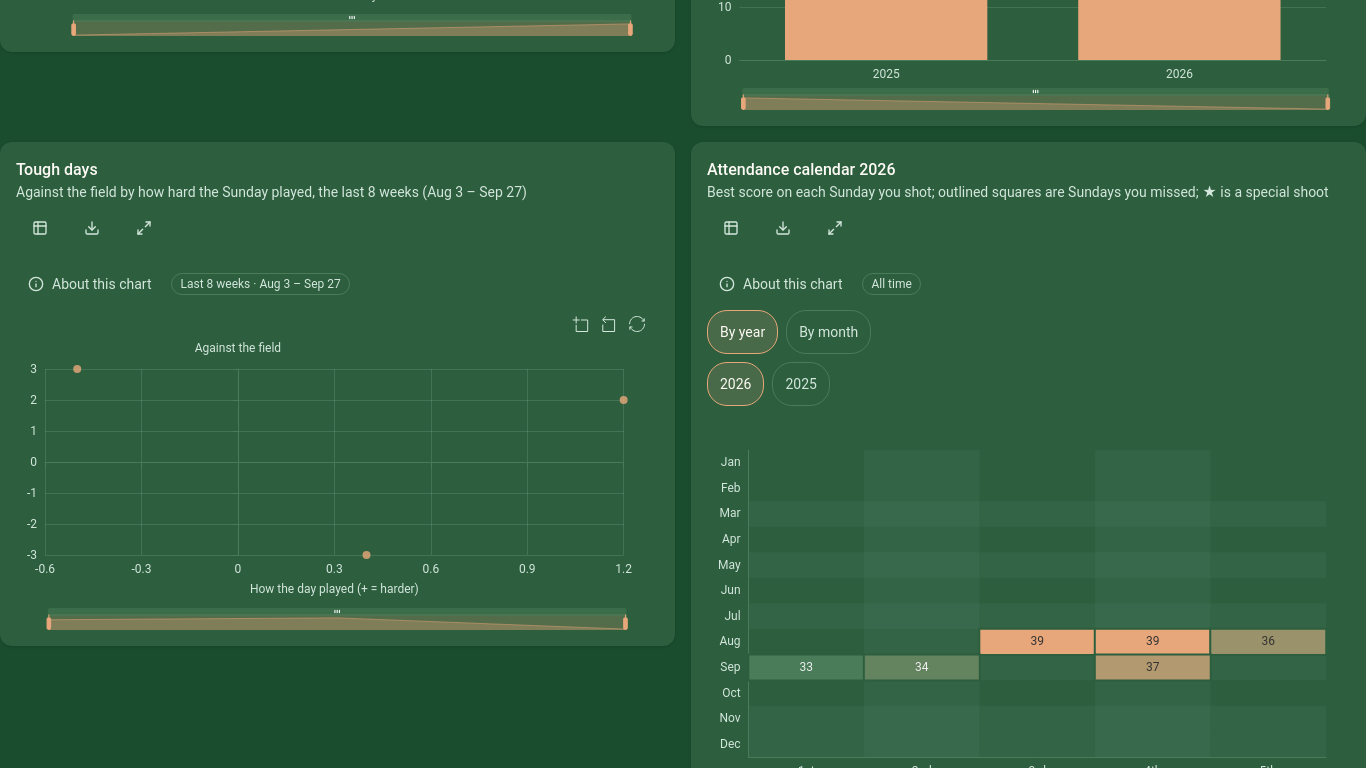
Test: ProfileCharts › the calendar's Table view keeps the chosen year (year and view use different URL keys)
(page scrolled)
Step 1. Click the button "2025" → (801, 384), box [772,362,830,406]
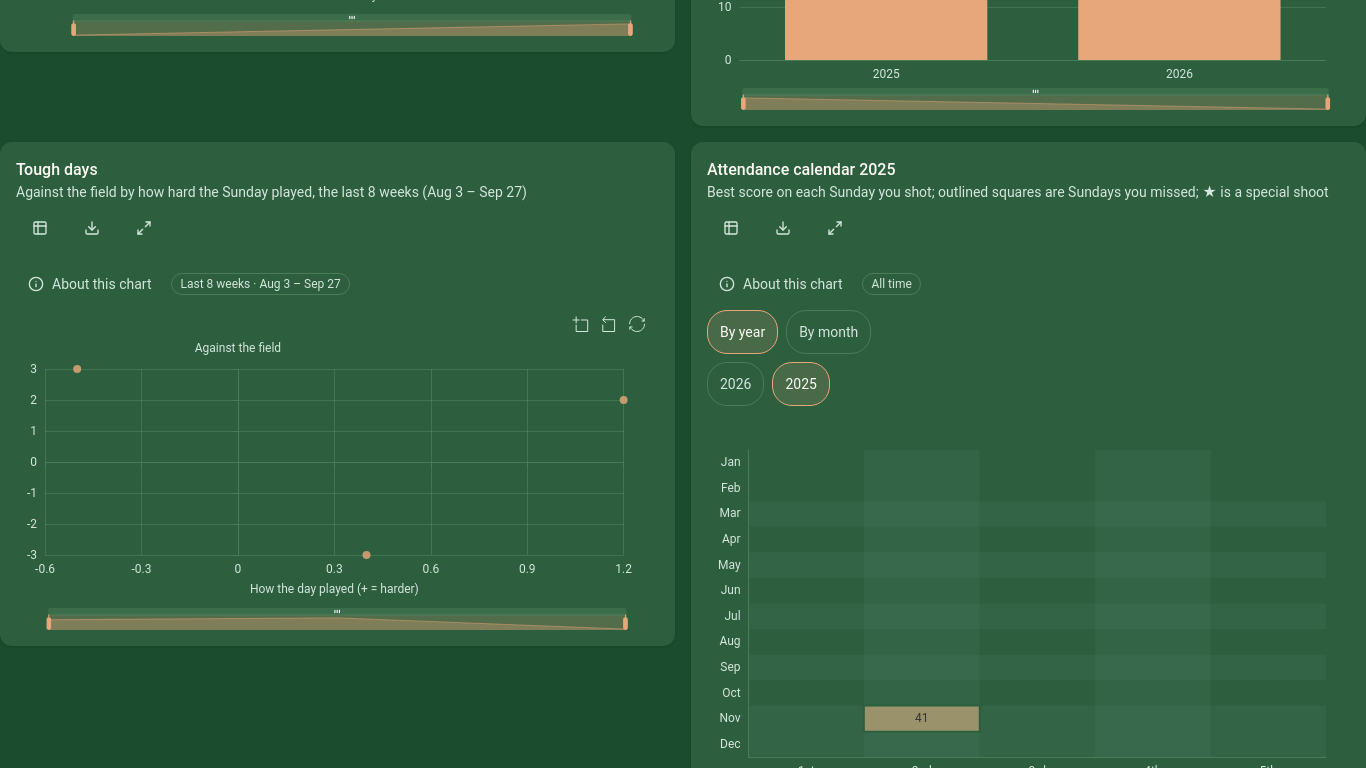
Step 2. Click the button named "Table" below "Attendance calendar 2025" → (731, 228), box [707,206,755,250]
(page scrolled)
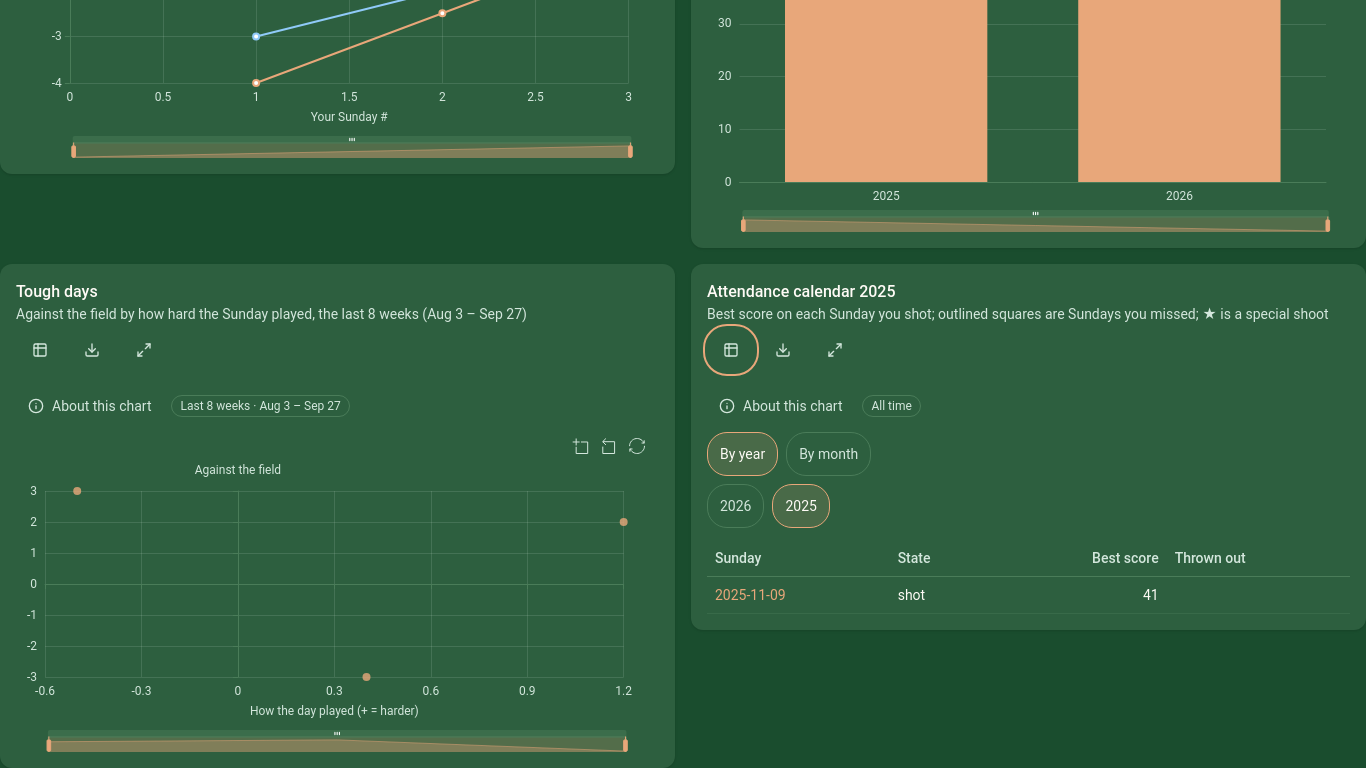
expect the element "Attendance calendar 2025" is shown: met, box [691,264,1365,630]
expect the number of rows is 2: met, box [707,540,1350,576]; [707,577,1350,614]
expect the text "41" is shown: met, box [993,577,1167,614]
